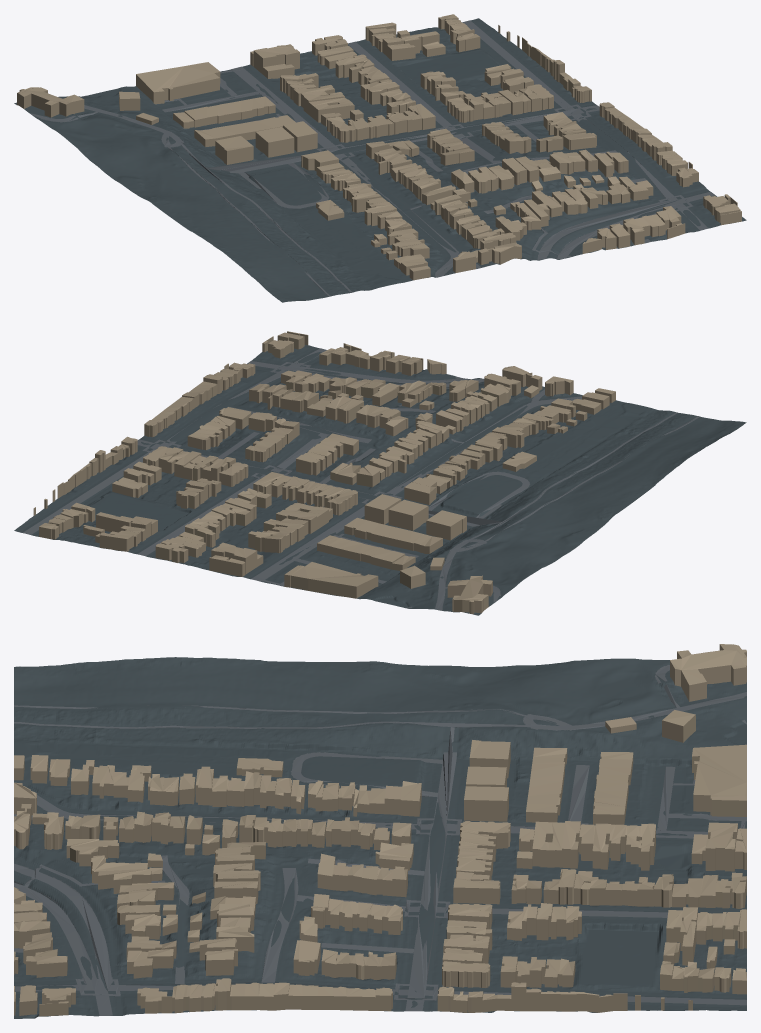
Rendered from epsg26910-1418-10890.lod0.glb.
3 renders of one model, top to bottom at view 1: azimuth 30°, elevation 25°; view 2: azimuth 150°, elevation 25°; view 3: azimuth 270°, elevation 25°, orthographic. The views are drawn at different scales.
Visible parts, largest first — view 1: epsg26910-1418-10890-lod0; view 2: epsg26910-1418-10890-lod0; view 3: epsg26910-1418-10890-lod0.
Part boxes in pixels (left/top/right/bottom): epsg26910-1418-10890-lod0: left=14, top=14, right=746, bottom=302; epsg26910-1418-10890-lod0: left=14, top=331, right=746, bottom=615; epsg26910-1418-10890-lod0: left=14, top=644, right=746, bottom=1018.
Bounding box in the file's own units: 384 × 37.83 × 384.
